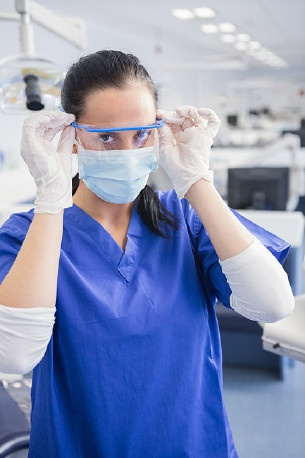Mask: (78, 122, 160, 203)
